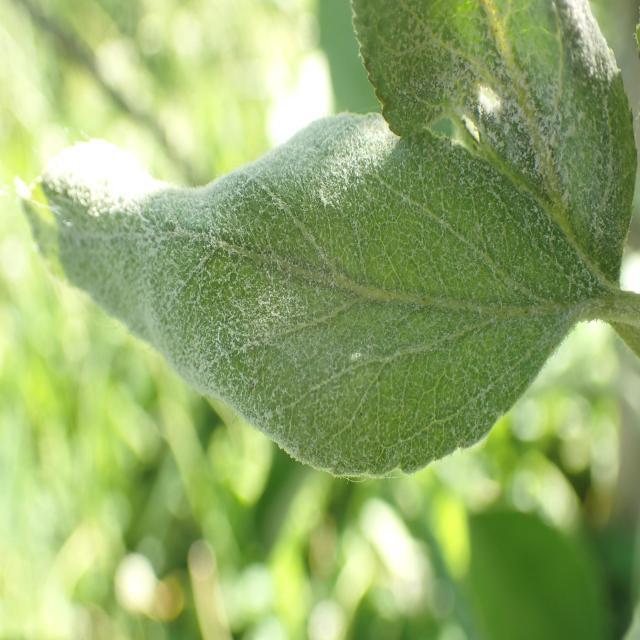Powdery_mildew: (0, 101, 620, 498), (342, 0, 640, 362)
